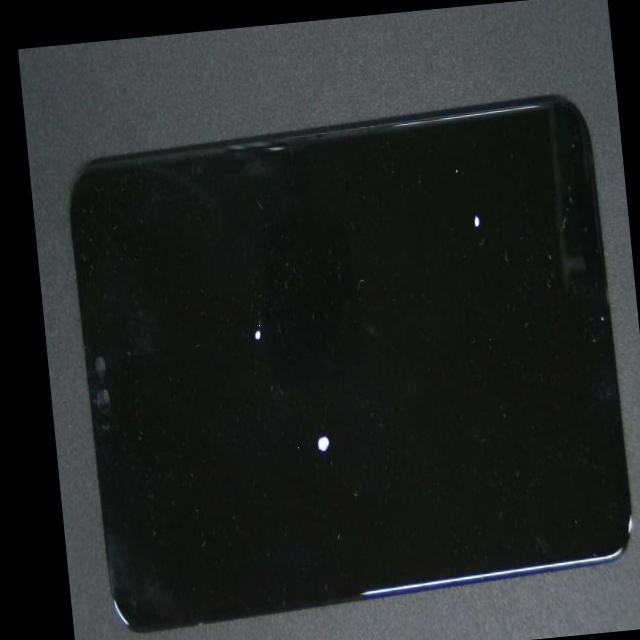stain: (156, 238, 439, 640), (254, 80, 634, 312), (130, 140, 361, 500)
